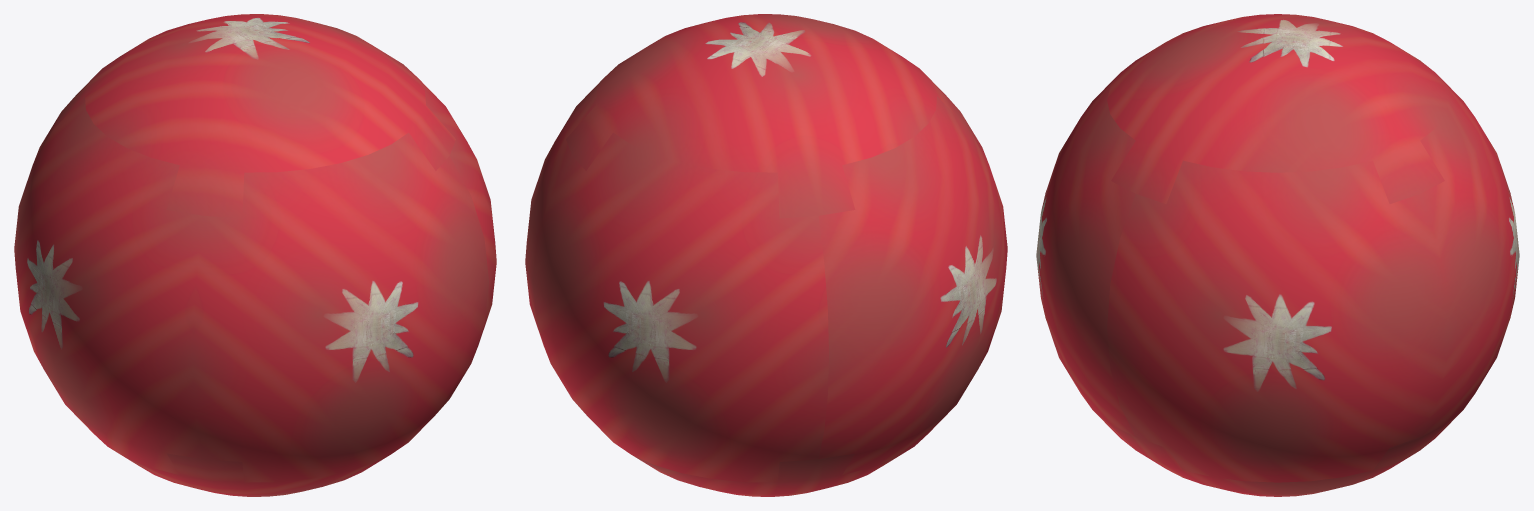
The model's file is ball_rebuilt_helo.glb.
3 views of the same model, side by side, from view 1: azimuth 30°, elevation 25°; view 2: azimuth 150°, elevation 25°; view 3: azimuth 270°, elevation 25° (orthographic).
Parts seen in each view (by area): view 1: Sphere; view 2: Sphere; view 3: Sphere.
Part boxes in pixels (x1,y1,x2,y2): Sphere: (14,14,496,496); Sphere: (525,14,1007,496); Sphere: (1036,14,1519,496).
Bounding box in the file's own units: 1.07 × 1.07 × 1.07.
Materials: 1 (1 with a texture image).
